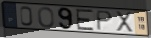0: (20, 6, 34, 27)
9: (57, 7, 76, 31)
E: (75, 9, 95, 32)
O: (37, 6, 56, 28)
P: (96, 10, 114, 31)
X: (115, 10, 135, 34)
